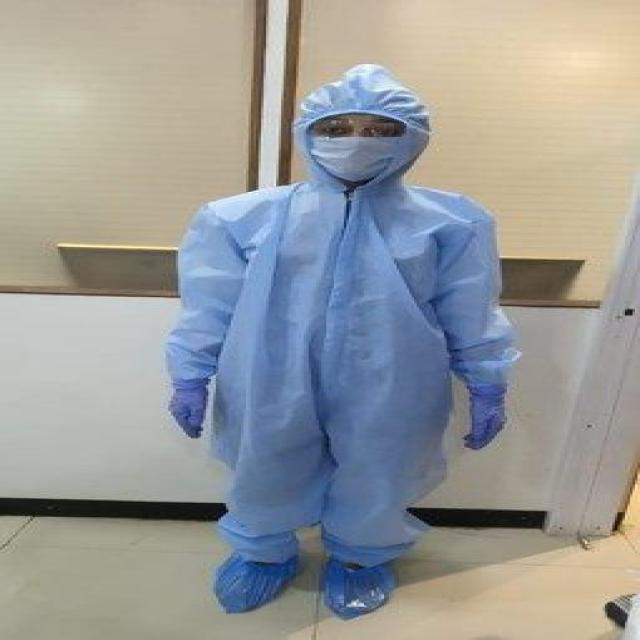Coverall: (91, 37, 623, 640)
Gloves: (143, 374, 299, 474), (419, 374, 540, 447)
Goggles: (271, 113, 427, 147)
Mask: (294, 133, 409, 187)
